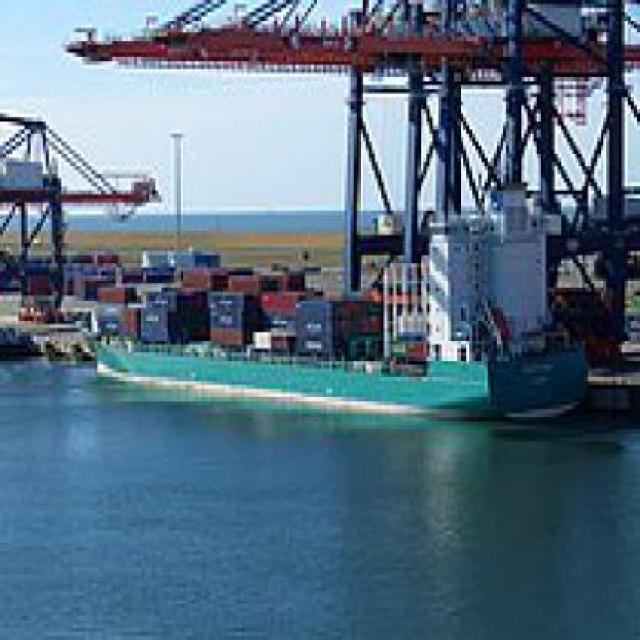container: (93, 183, 596, 459)
